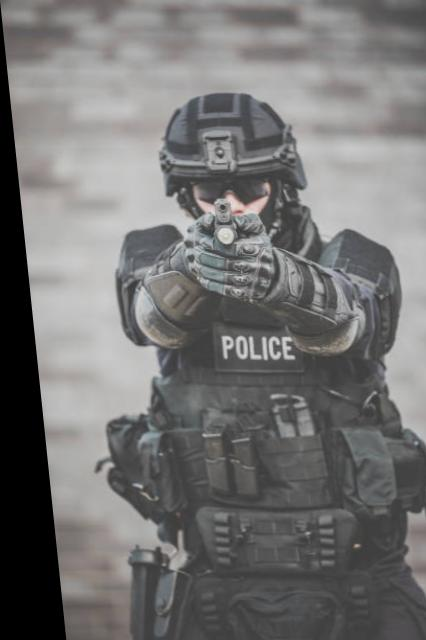other: (69, 88, 424, 640)
